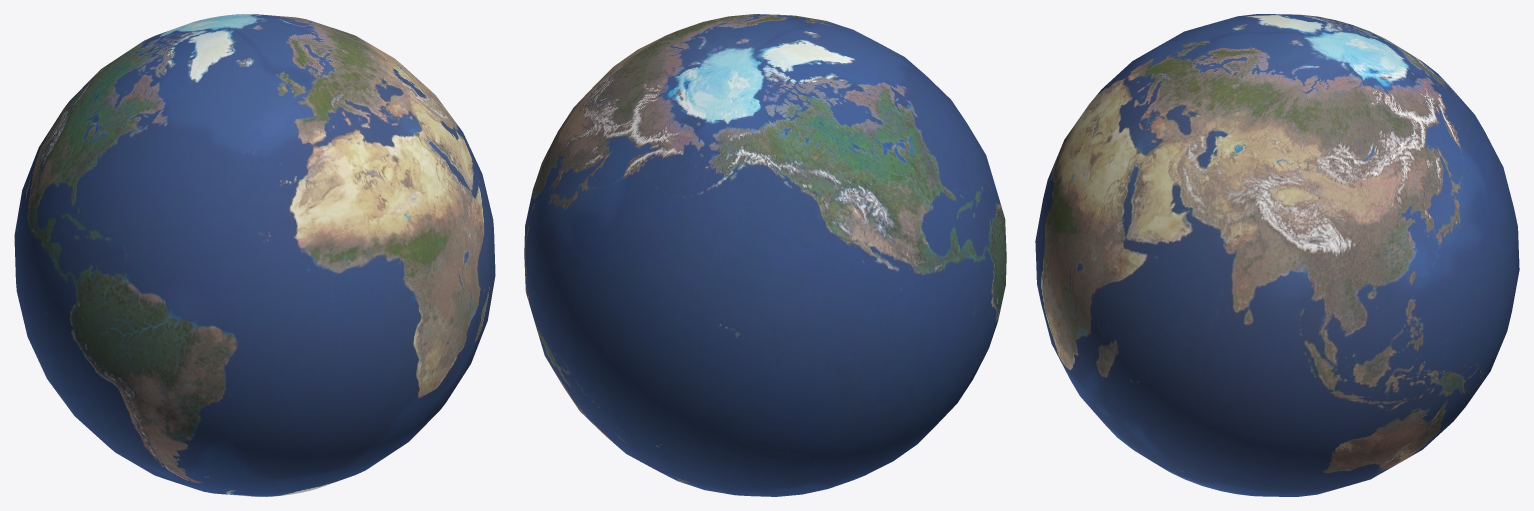
File: earth.obj
3 views of the same model, side by side, from view 1: azimuth 30°, elevation 25°; view 2: azimuth 150°, elevation 25°; view 3: azimuth 270°, elevation 25° (orthographic).
Visible parts, largest first — view 1: Earth_Mesh; view 2: Earth_Mesh; view 3: Earth_Mesh.
Boxes of the visible parts, x1,y1,x2,y2 form: Earth_Mesh: [14, 14, 495, 496]; Earth_Mesh: [524, 14, 1006, 496]; Earth_Mesh: [1035, 14, 1519, 496].
Size of the model in its own units: 4.08 by 4.07 by 4.07.
1 material, 1 textured.
